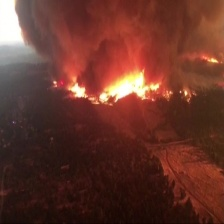fire: (57, 72, 150, 104), (160, 86, 195, 100), (200, 51, 221, 64)
smoke: (13, 1, 224, 89)
